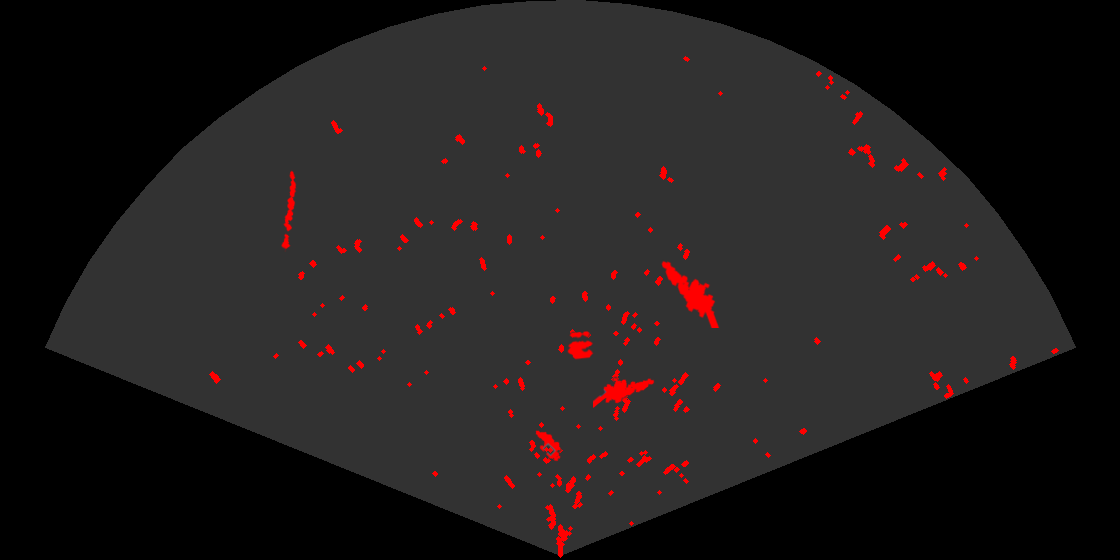AUV: (534, 429, 563, 463)
ball: (566, 330, 595, 361)
chain: (280, 169, 298, 252)
frogman: (660, 259, 721, 328), (593, 376, 656, 409)
